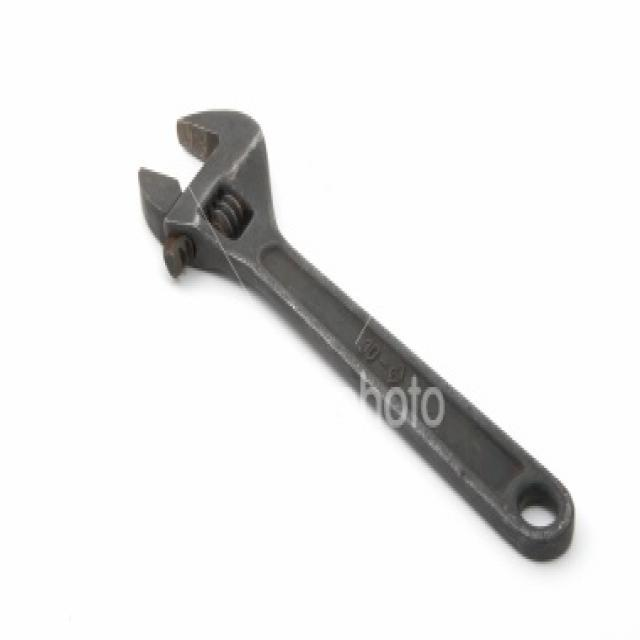wrench: (132, 97, 580, 568)
